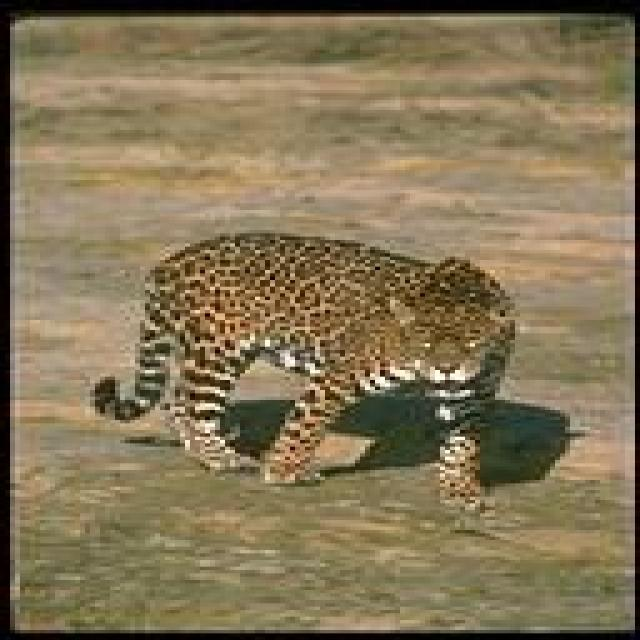Leopard: (92, 234, 514, 513)
